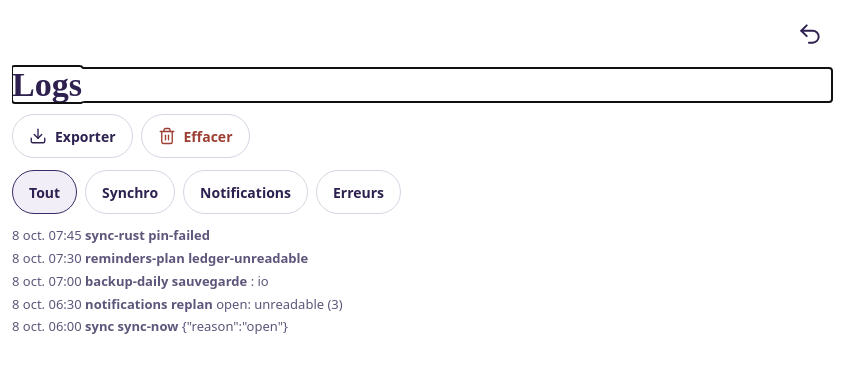
Test: I-04 : écran Logs › critère 7 : « Exporter » -> texte UTF-8 circletasks-logs-AAAAMMJJ-HHMM.txt (en-tête, lignes UTC), sélecteur iPhone en excursion
Click the button "Exporter": (72, 136) [12,114,132,158]
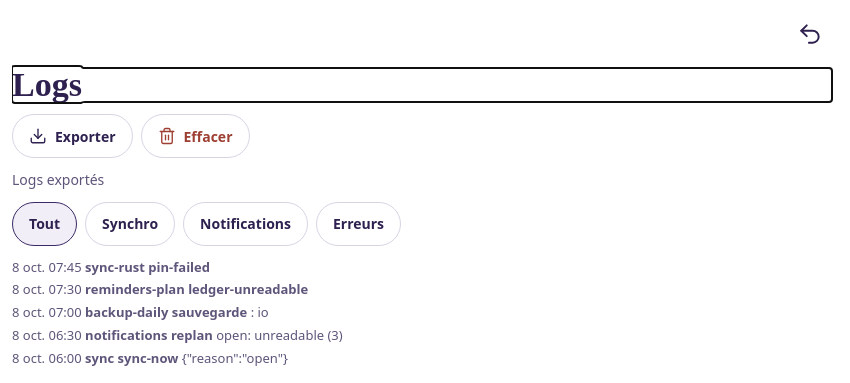
expect the text "Logs exportés" is shown: met, box [12,170,104,189]
